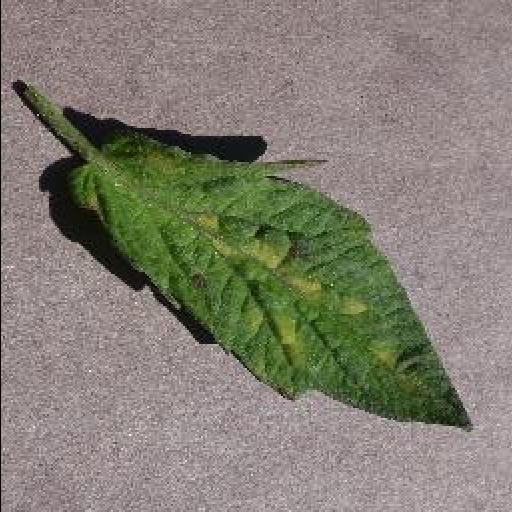disease_tomato: (66, 136, 474, 430)
